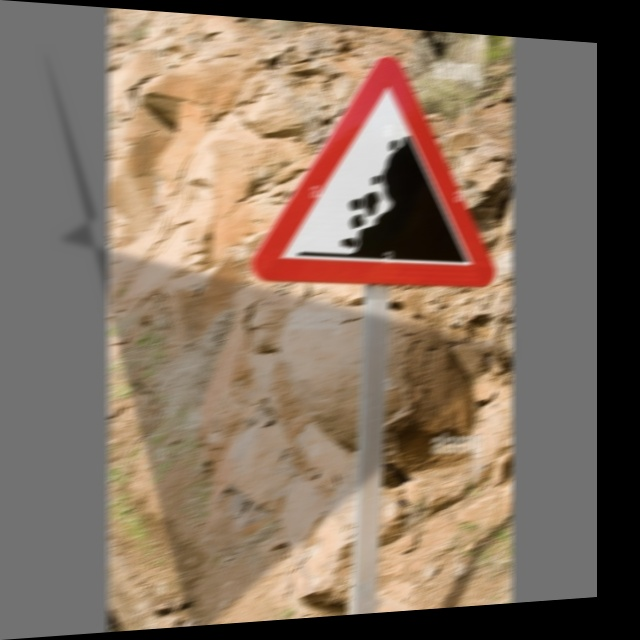Falling_Rocks: (260, 56, 494, 285)
